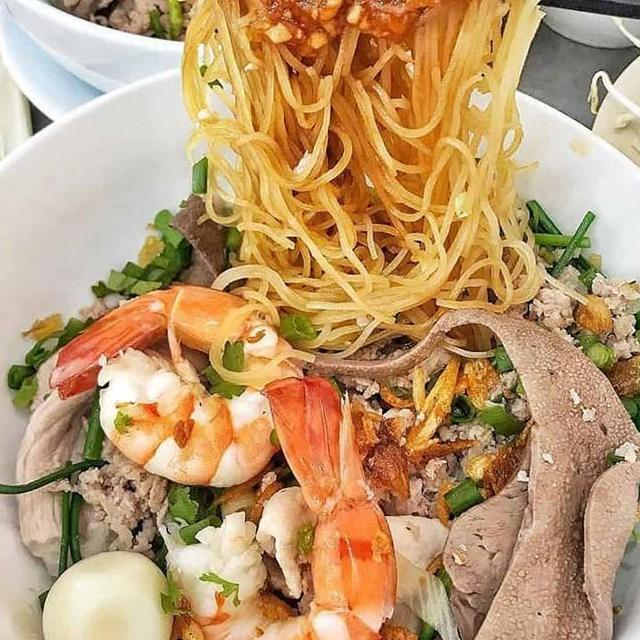gan: (392, 301, 640, 640)
mi: (160, 0, 549, 357)
mi tron: (0, 0, 640, 640)
thit bam: (339, 362, 536, 522), (498, 227, 640, 374), (47, 429, 179, 571), (91, 0, 203, 53)
thit heo: (8, 325, 142, 586), (247, 480, 456, 611)
tom: (152, 369, 401, 640), (42, 275, 308, 493)
trung: (34, 546, 177, 640)
